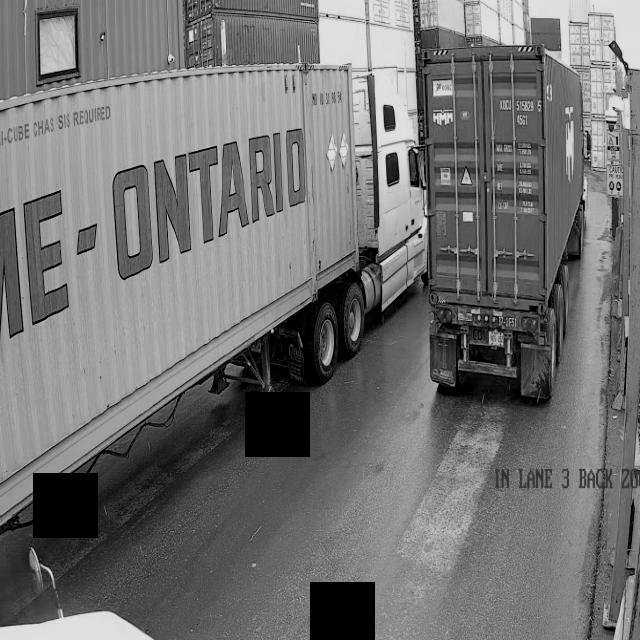container_company_logo: (430, 100, 458, 129)
container_number: (497, 93, 541, 130)
license_plate: (486, 329, 506, 350)
truck_with_container: (0, 61, 427, 528), (420, 45, 586, 400)
